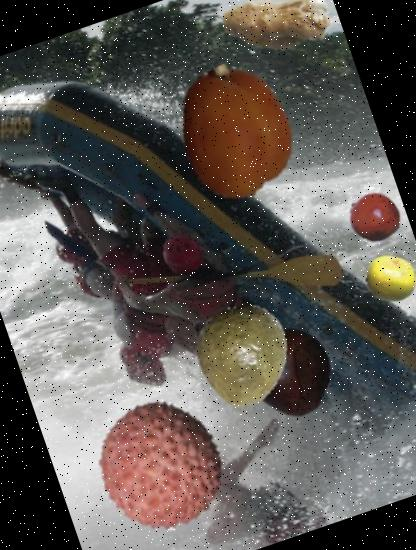Apricot: (151, 48, 318, 216)
Chestnut: (233, 314, 344, 425)
Ginger: (207, 0, 348, 91)
Guava: (179, 292, 307, 420)
Lychee: (78, 382, 244, 548)
Pomegranate: (341, 183, 410, 252)
Pomelo: (359, 245, 416, 310)
